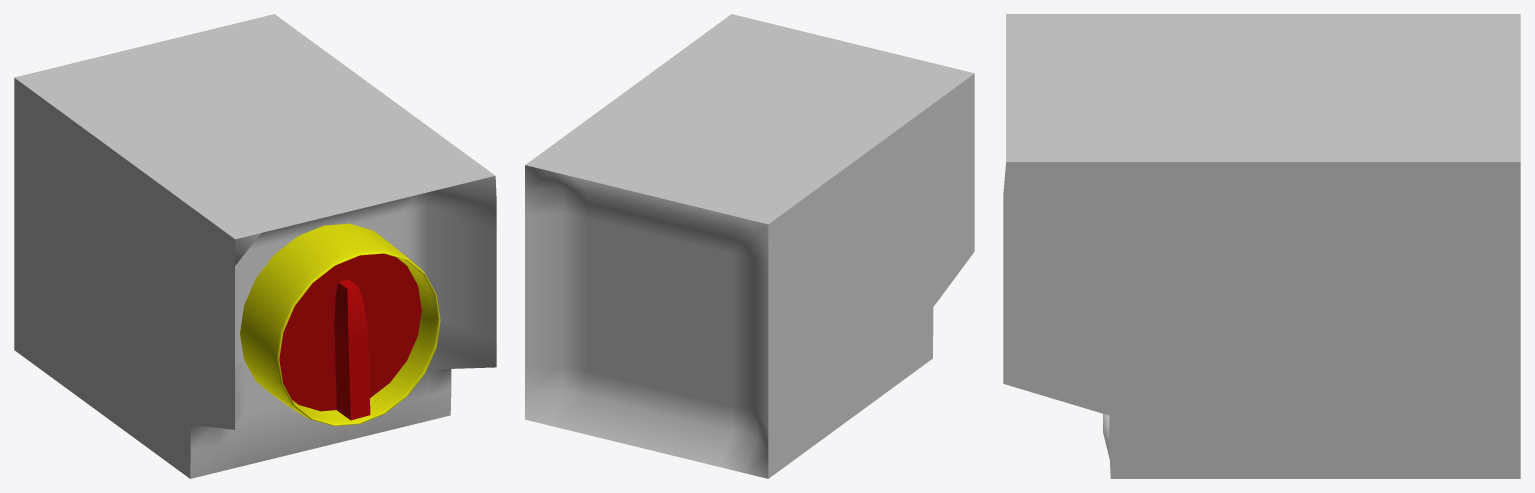
The model's file is EmergencyPower.fbx.
The picture shows the model from 3 angles, left to right: view 1: azimuth 30°, elevation 25°; view 2: azimuth 150°, elevation 25°; view 3: azimuth 270°, elevation 25°; orthographic projection. The views are drawn at different scales.
Parts seen in each view (by area): view 1: pCube1, pTorus1, pCylinder1, Switch; view 2: pCube1; view 3: pCube1.
Part boxes in pixels (x1,y1,x2,y2): pCube1: (14, 14, 496, 478); pTorus1: (240, 223, 440, 426); pCylinder1: (279, 253, 421, 411); Switch: (334, 279, 370, 420); pCube1: (525, 14, 974, 478); pCube1: (1003, 14, 1520, 478).
Size of the model in its own units: 1 by 1 by 1.48.
